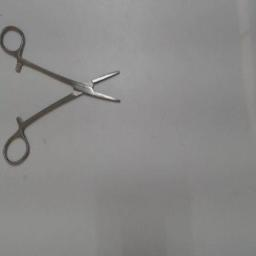Mayo Needle Holder: (1, 20, 131, 170)
